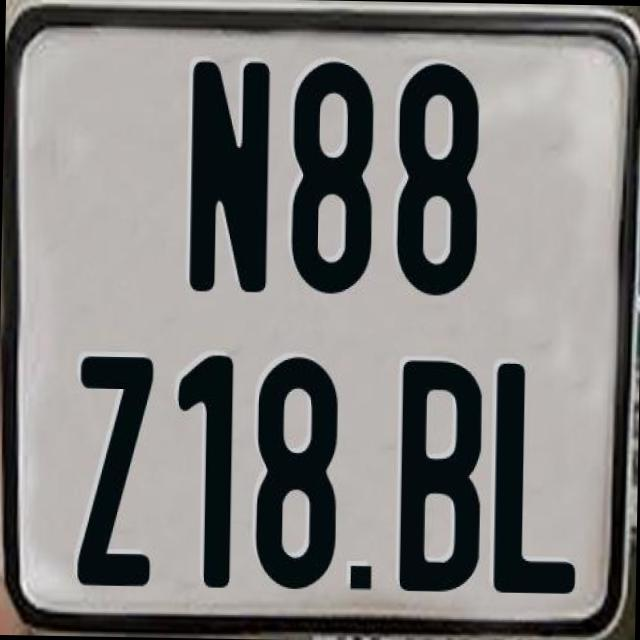1: (172, 354, 230, 590)
8: (254, 351, 342, 589), (391, 62, 478, 300), (290, 55, 376, 294)
B: (397, 355, 482, 596)
L: (491, 362, 576, 592)
N: (187, 57, 275, 297)
Z: (75, 352, 158, 588)
